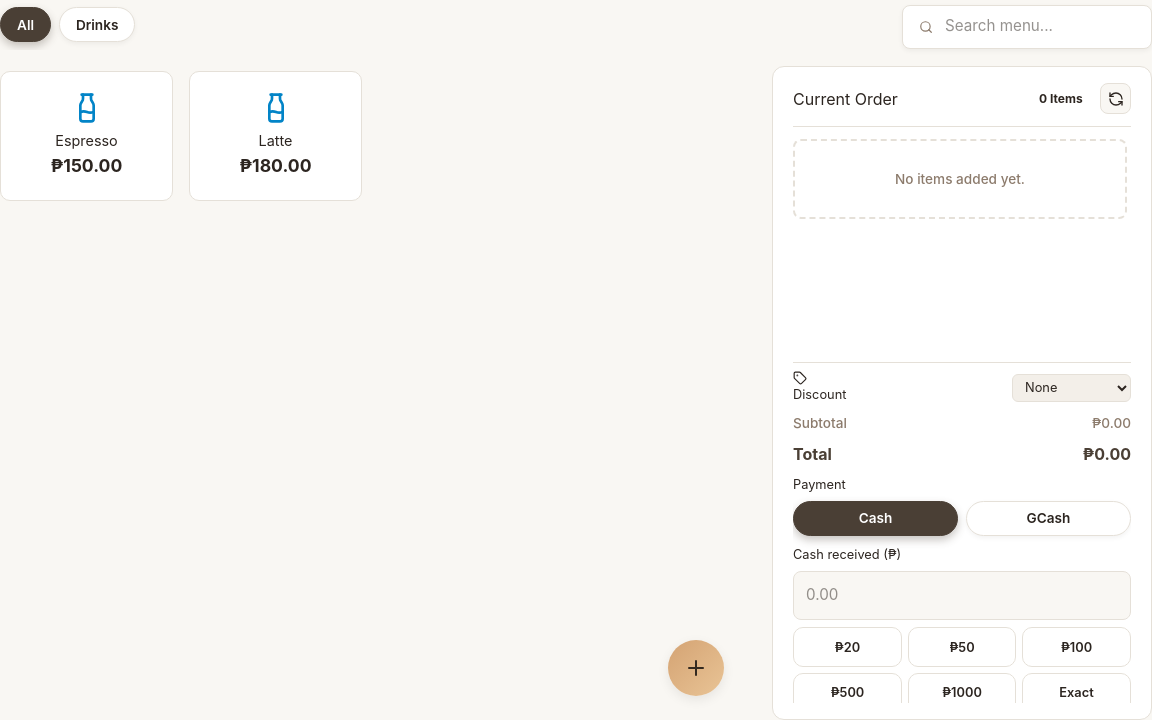
Scenario: MainPOS › should open the radial menu and launch the add-product modal for admins
(page scrolled)
Click the button with test id "radial-fab-main" at (696, 668), box [668,640,724,696]
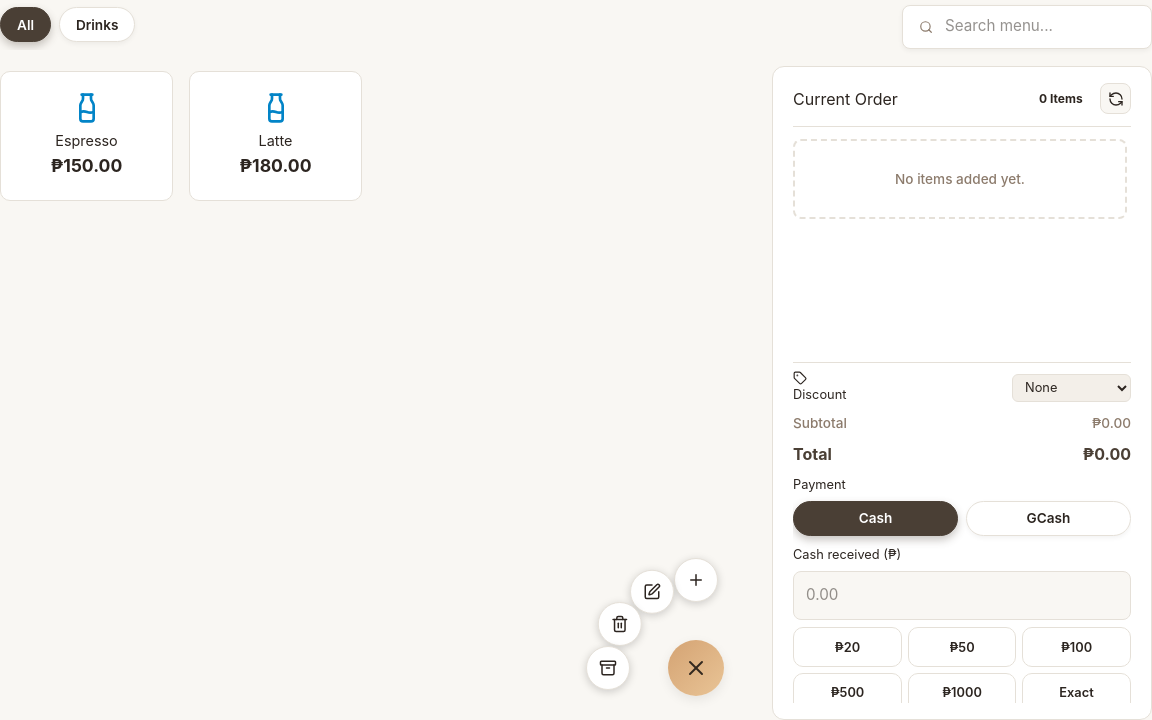
Expected: the button with test id "radial-fab-add" is shown
Expected: the button with test id "radial-fab-delete" is shown, [598,602,642,646]
Click the button with test id "radial-fab-add" at (696, 580), box [674,558,718,602]
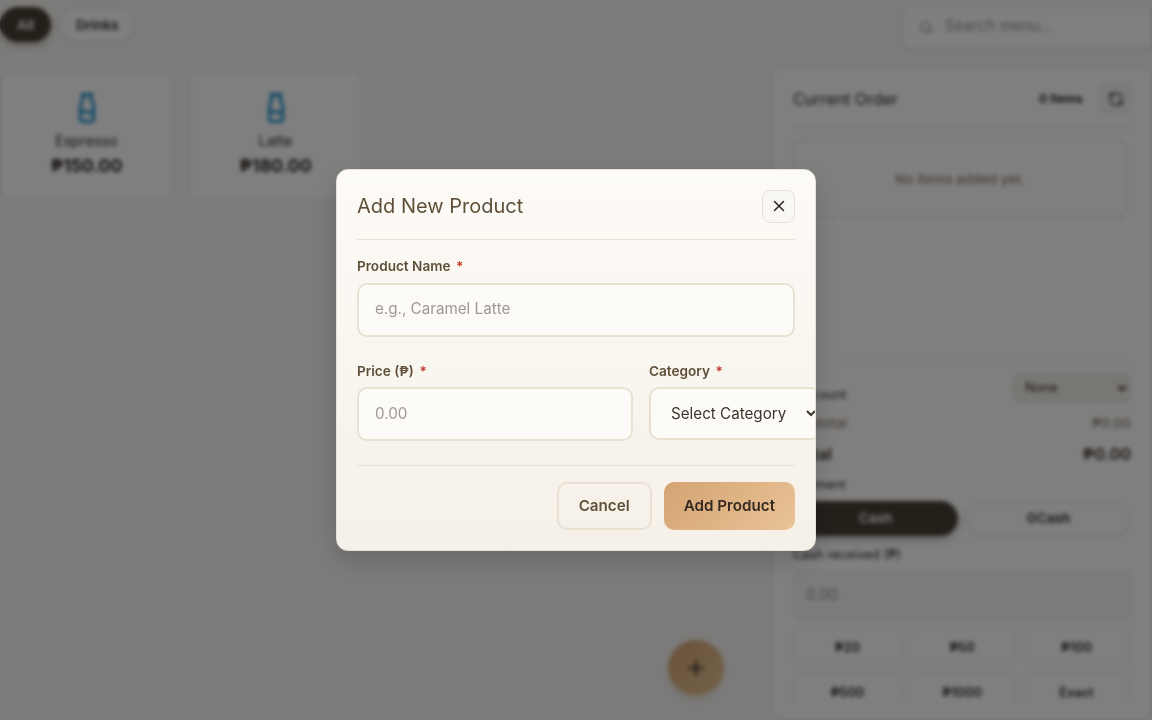
Expected: the heading "Add New Product" is shown, [357,192,523,222]
